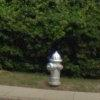Hydrant: (41, 45, 76, 92)
